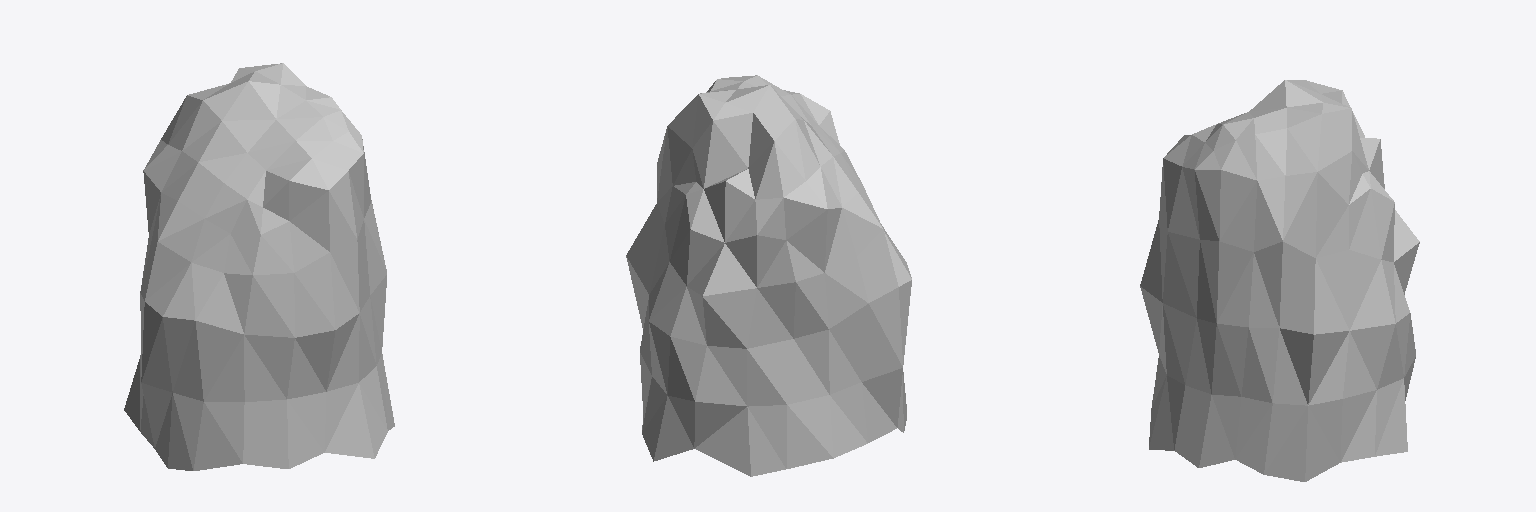
File: wall6.obj
The picture shows the model from 3 angles: view 1: azimuth 30°, elevation 25°; view 2: azimuth 150°, elevation 25°; view 3: azimuth 270°, elevation 25°; orthographic projection.
Parts seen in each view (by area): view 1: Cube.004_Cube.005; view 2: Cube.004_Cube.005; view 3: Cube.004_Cube.005.
Boxes of the visible parts, x1,y1,x2,y2 form: Cube.004_Cube.005: [124, 63, 394, 470]; Cube.004_Cube.005: [626, 75, 911, 476]; Cube.004_Cube.005: [1140, 80, 1419, 481].
Size of the model in its own units: 11.13 by 14.82 by 10.79.